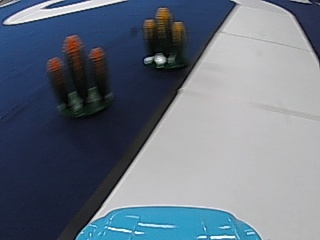corn: (44, 32, 112, 124), (140, 3, 188, 70)
